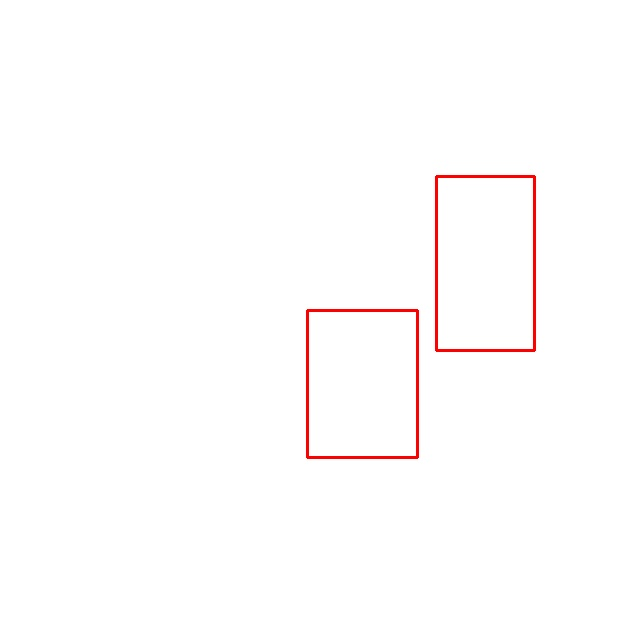weapon: (436, 176, 534, 350), (308, 311, 418, 458)
